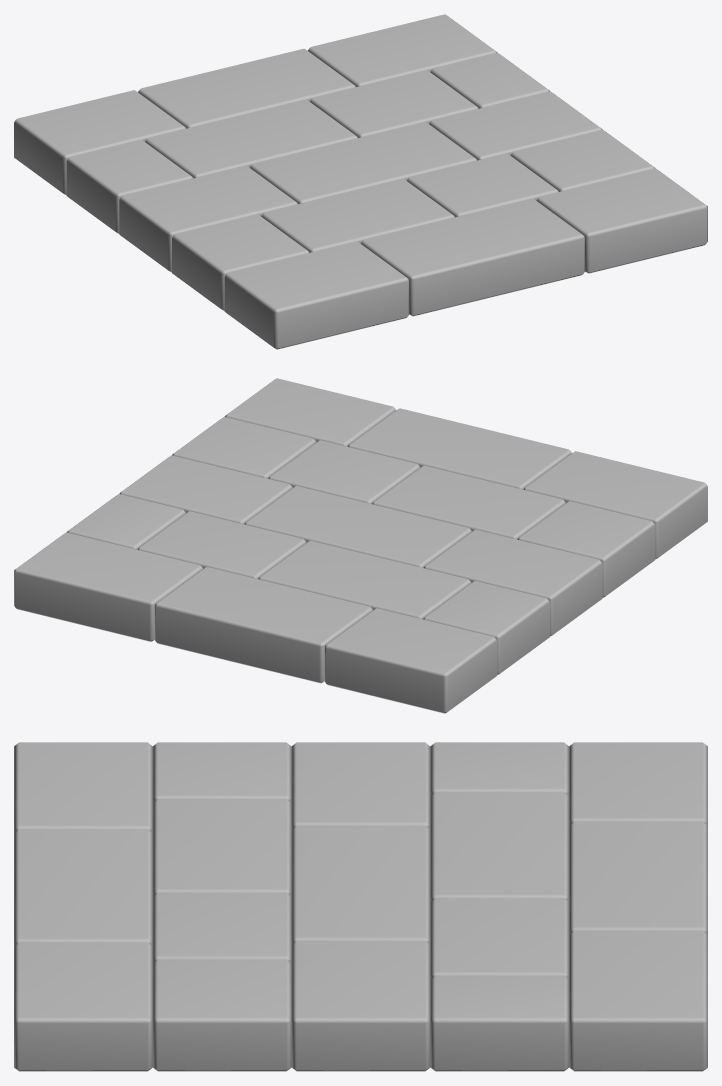
Rendered from City_17_Base_1.glb.
3 views of the same model, one above another, from view 1: azimuth 30°, elevation 25°; view 2: azimuth 150°, elevation 25°; view 3: azimuth 270°, elevation 25° (orthographic). The views are drawn at different scales.
Parts seen in each view (by area): view 1: City_17_Base_1; view 2: City_17_Base_1; view 3: City_17_Base_1.
Part boxes in pixels (bbox=[...]): City_17_Base_1: bbox=[14, 14, 707, 349]; City_17_Base_1: bbox=[14, 378, 707, 713]; City_17_Base_1: bbox=[14, 742, 707, 1071].
Bounding box in the file's own units: 6.93 × 0.6294 × 7.28.
1 material, 1 textured.
